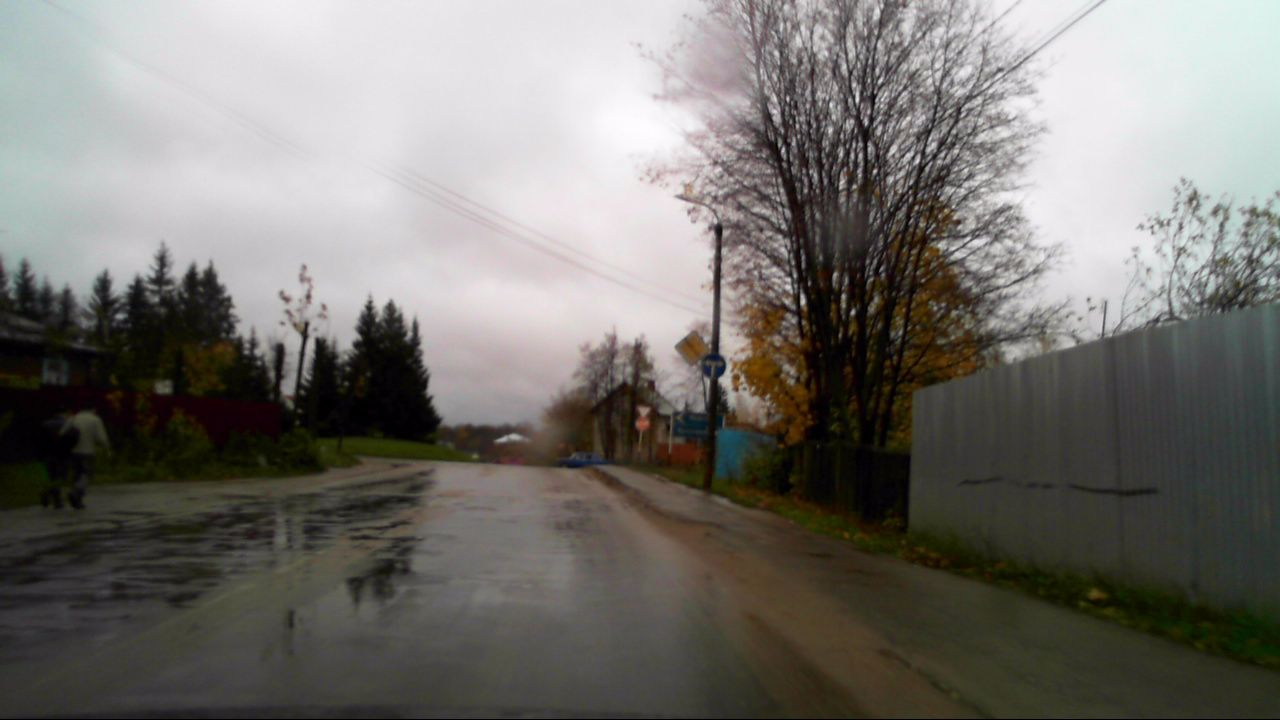main road: (674, 330, 710, 368)
